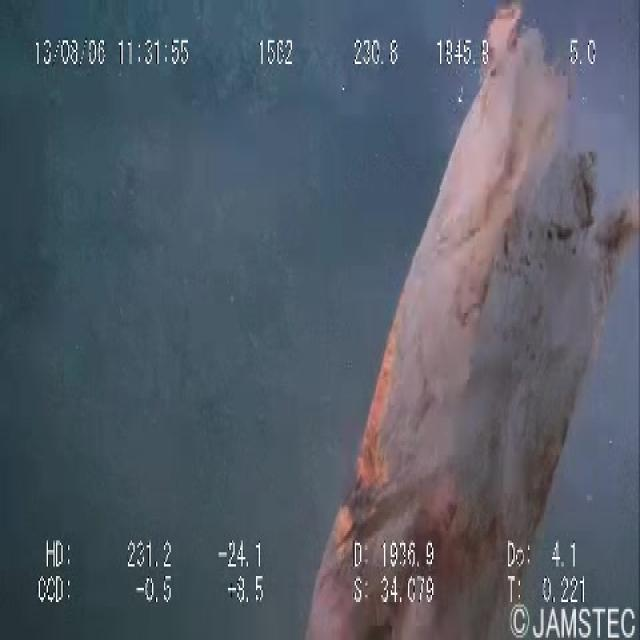plastic: (291, 14, 633, 638)
